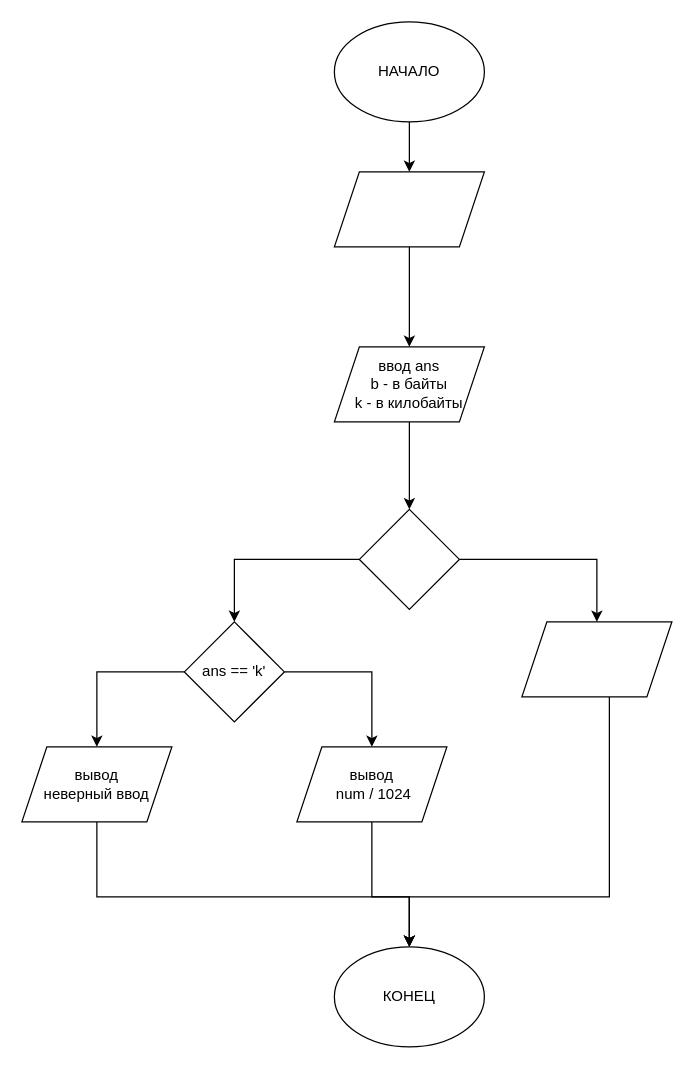
This 694x1069 diagram has some shape labels left out. Each missing label, with the centre of its shape:
ans == 'b': the point at 408,558
ввод num: the point at 408,209
вывод num * 1024: the point at 596,659
